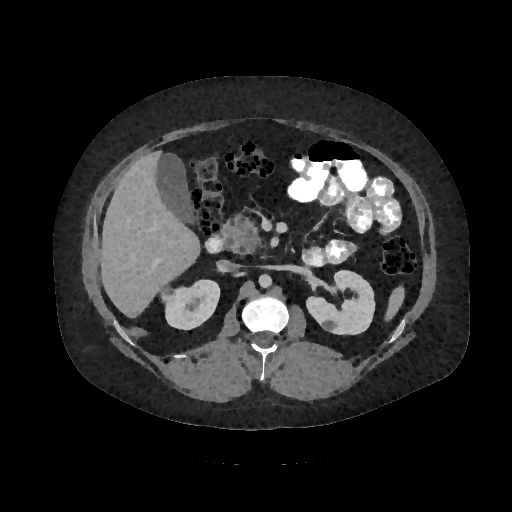Lesion: (318, 316, 342, 335)
